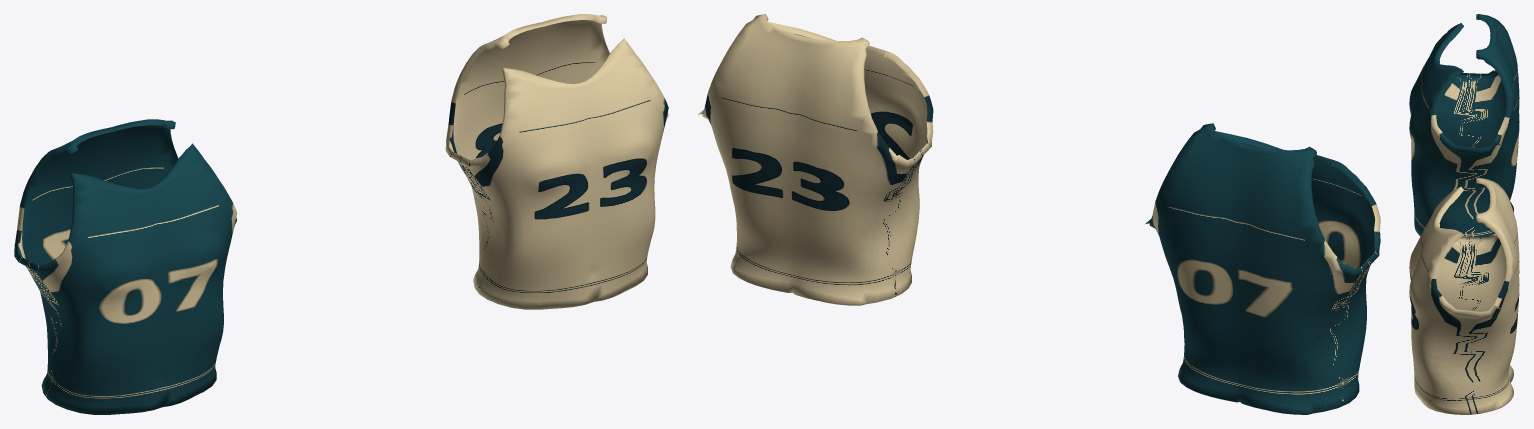
The model's file is uniforms.glb.
The picture shows the model from 3 angles, left to right: view 1: azimuth 30°, elevation 25°; view 2: azimuth 150°, elevation 25°; view 3: azimuth 270°, elevation 25°; orthographic projection. The views are drawn at different scales.
Parts seen in each view (by area): view 1: jersey-deep-teal, jersey-warm-ivory; view 2: jersey-deep-teal, jersey-warm-ivory; view 3: jersey-warm-ivory, jersey-deep-teal.
Boxes of the visible parts, x1,y1,x2,y2 form: jersey-deep-teal: (14, 119, 237, 414); jersey-warm-ivory: (445, 14, 668, 309); jersey-deep-teal: (1145, 123, 1380, 414); jersey-warm-ivory: (698, 14, 933, 305); jersey-warm-ivory: (1409, 177, 1519, 414); jersey-deep-teal: (1409, 14, 1519, 237).
Size of the model in its own units: 1.39 by 0.5161 by 0.27.
Materials: 2 (2 with a texture image).
